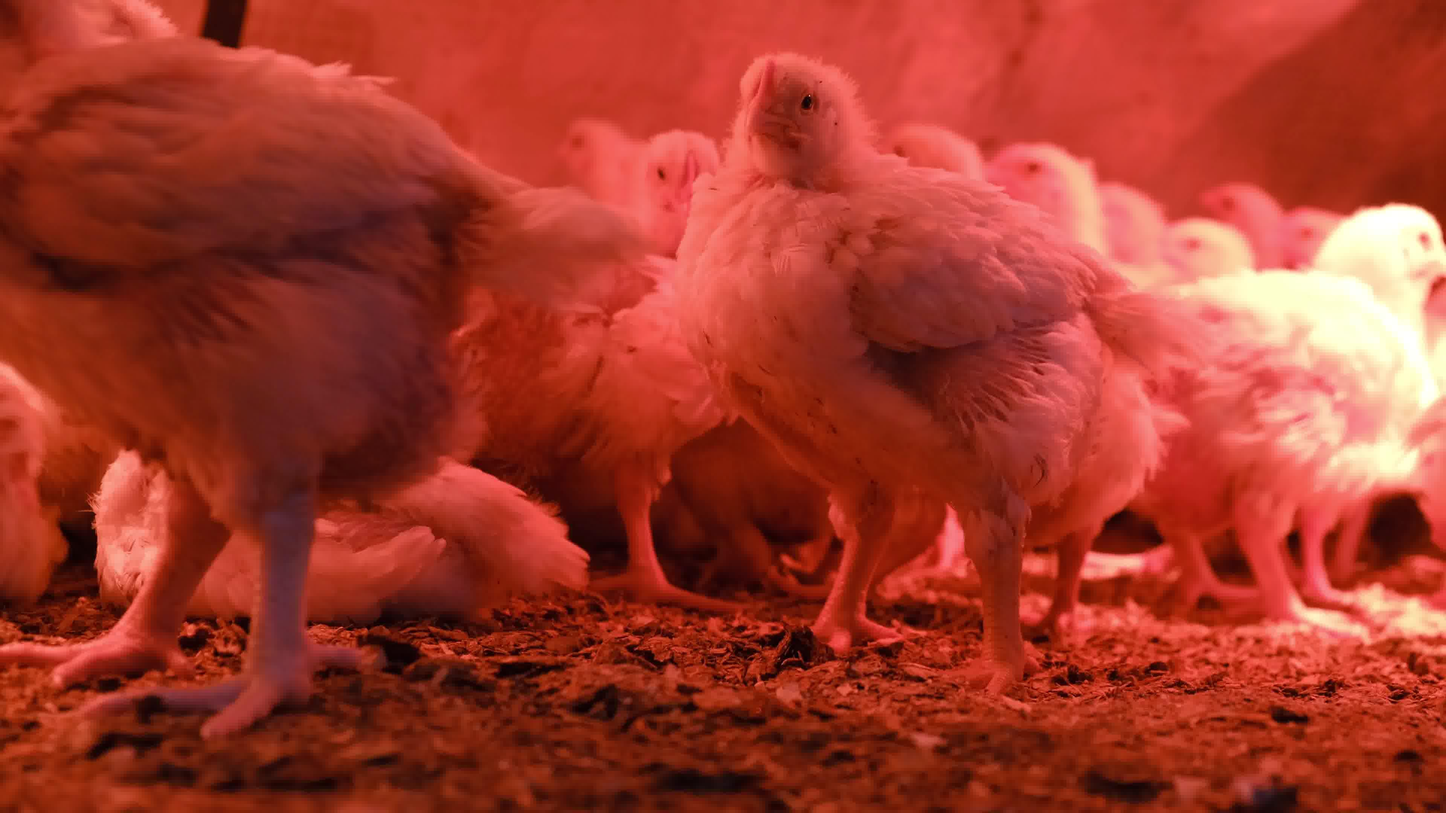AbNormal: (55, 390, 627, 678), (0, 305, 120, 666)
Normal: (0, 0, 516, 779), (680, 36, 1181, 687), (1135, 205, 1446, 621), (951, 102, 1118, 346), (593, 92, 753, 247), (881, 87, 1032, 243), (503, 49, 665, 173), (1190, 162, 1352, 247)
